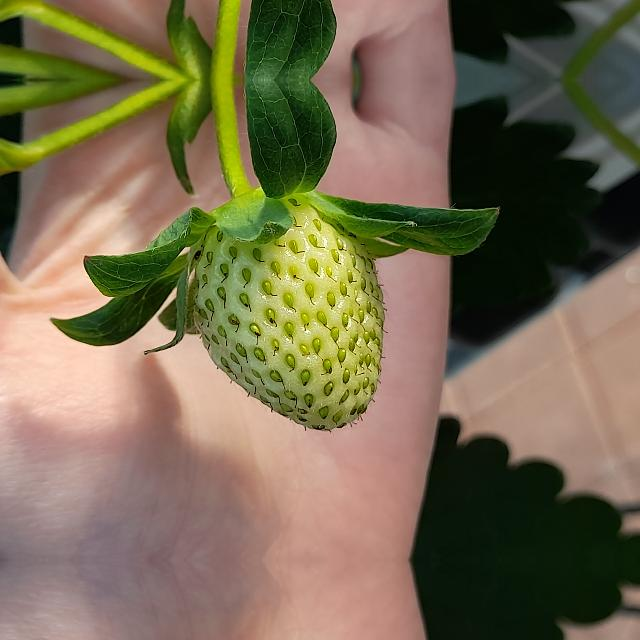Health_25: (192, 196, 386, 432)
